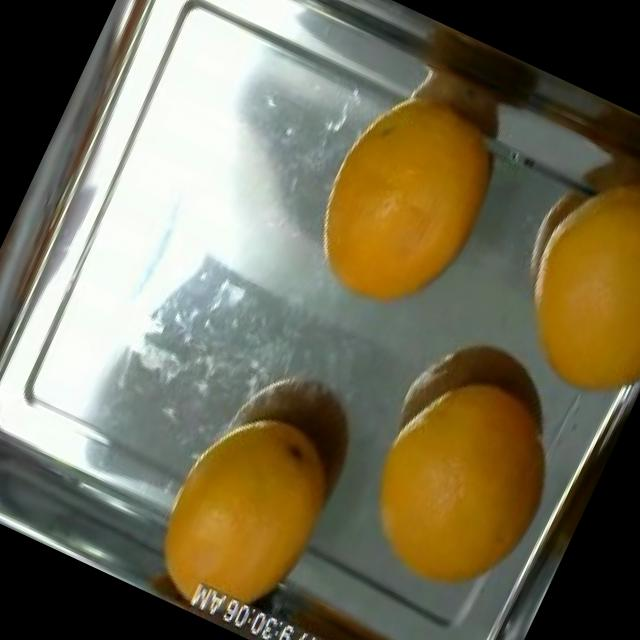Fruit: (132, 383, 371, 640)
